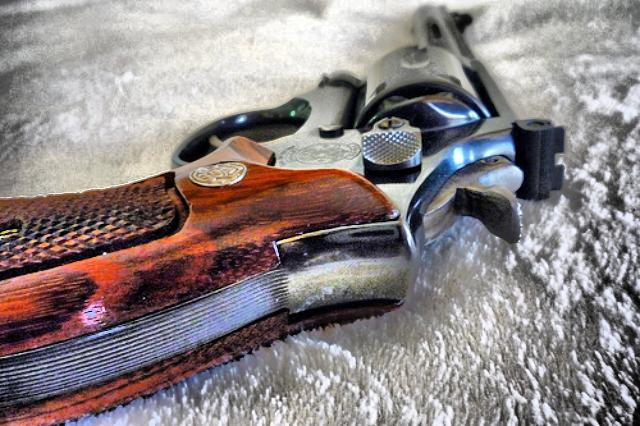pistol: (2, 13, 562, 421)
